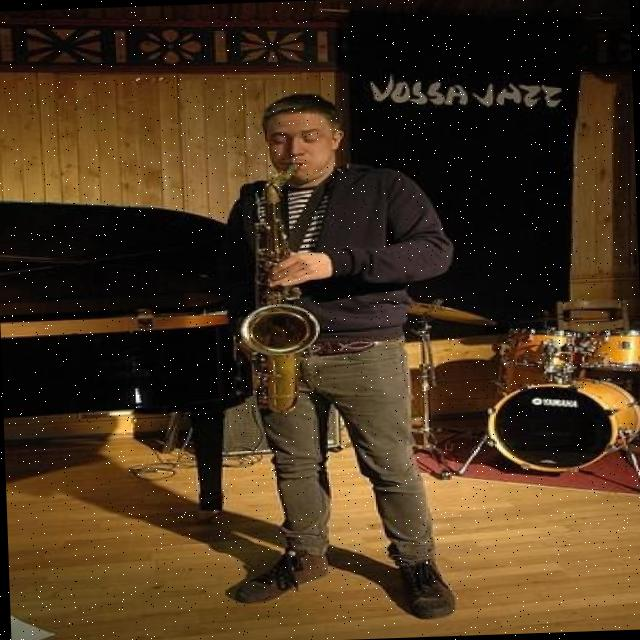drums: (395, 293, 640, 496)
saxophone: (228, 160, 326, 418)
